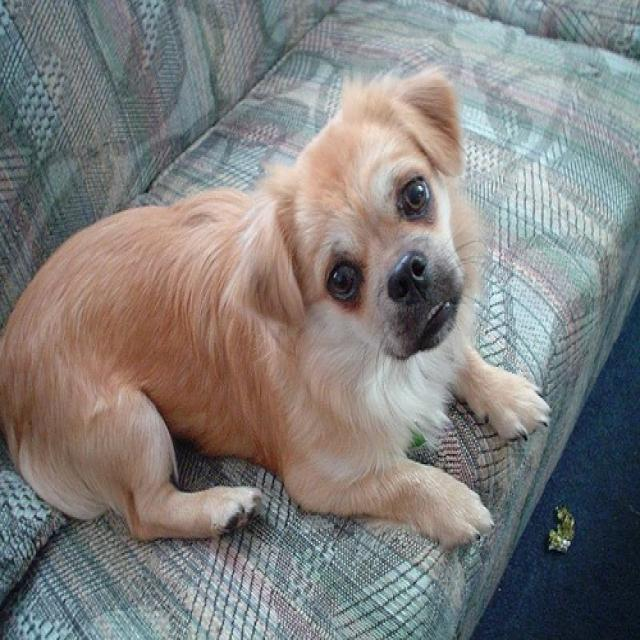dog: (3, 66, 553, 548)
sofa: (2, 2, 638, 635)
